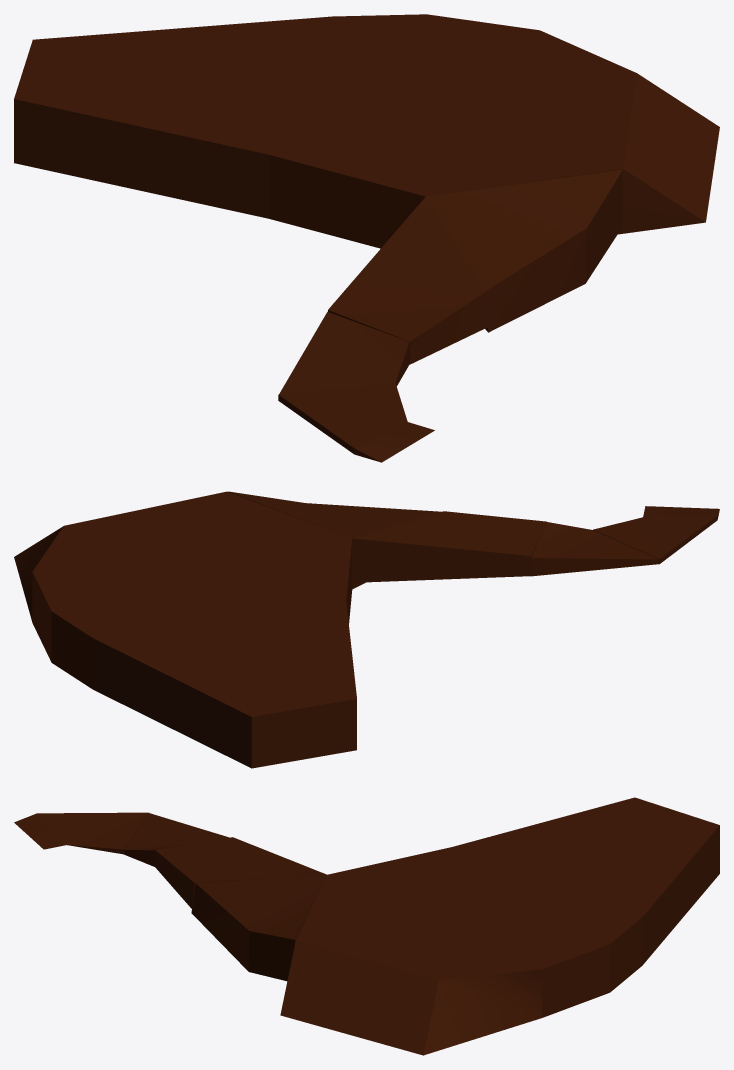
The model's file is TutorialPark.FBX.
3 views of the same model, one above another, from view 1: azimuth 30°, elevation 25°; view 2: azimuth 150°, elevation 25°; view 3: azimuth 270°, elevation 25° (orthographic). The views are drawn at different scales.
Parts seen in each view (by area): view 1: TutorialPark; view 2: TutorialPark; view 3: TutorialPark.
Boxes of the visible parts, box(x1,y1,x2,y2) form: TutorialPark: box(14, 14, 719, 462); TutorialPark: box(14, 491, 719, 768); TutorialPark: box(14, 797, 719, 1055).
Size of the model in its own units: 2838 by 3678 by 329.
